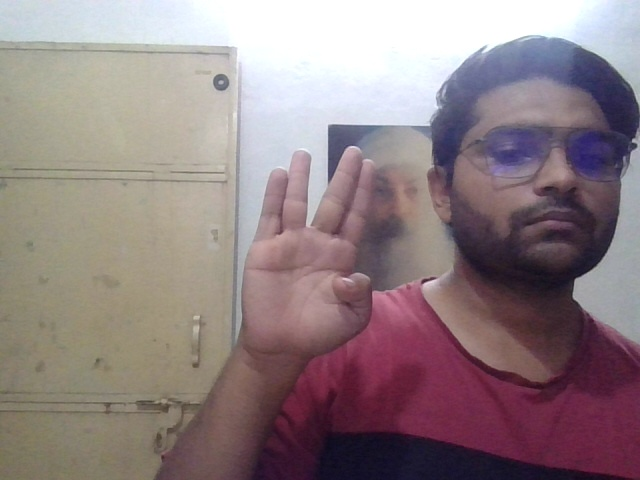LiveLong: (238, 145, 382, 357)
